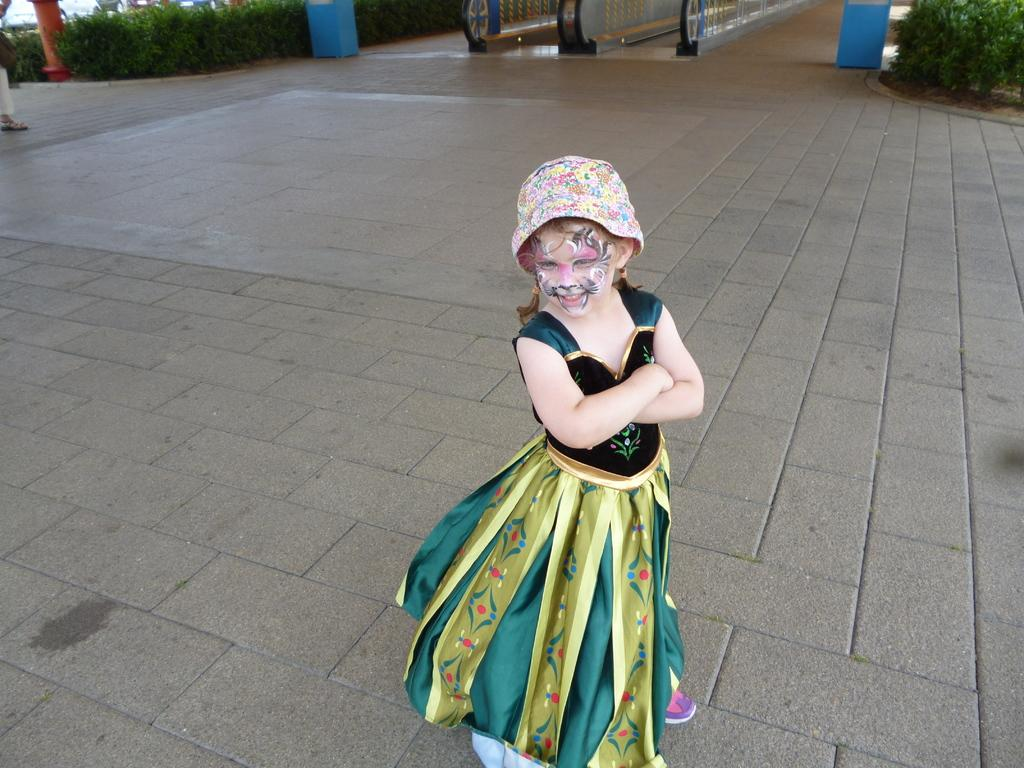Hat: (514, 152, 646, 276)
